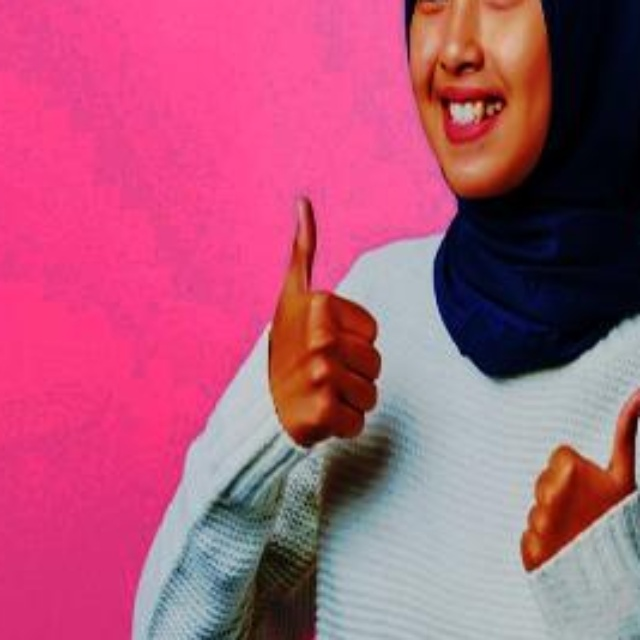thumbs_up: (252, 187, 388, 453)
